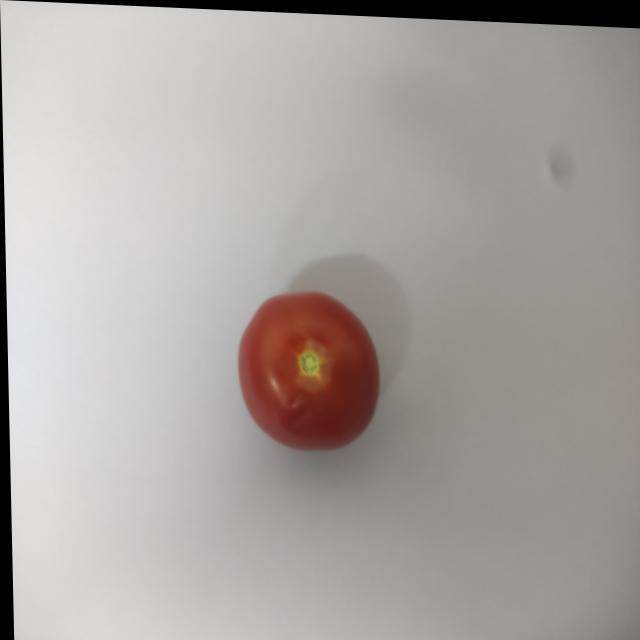kirmizi: (228, 279, 404, 460)
